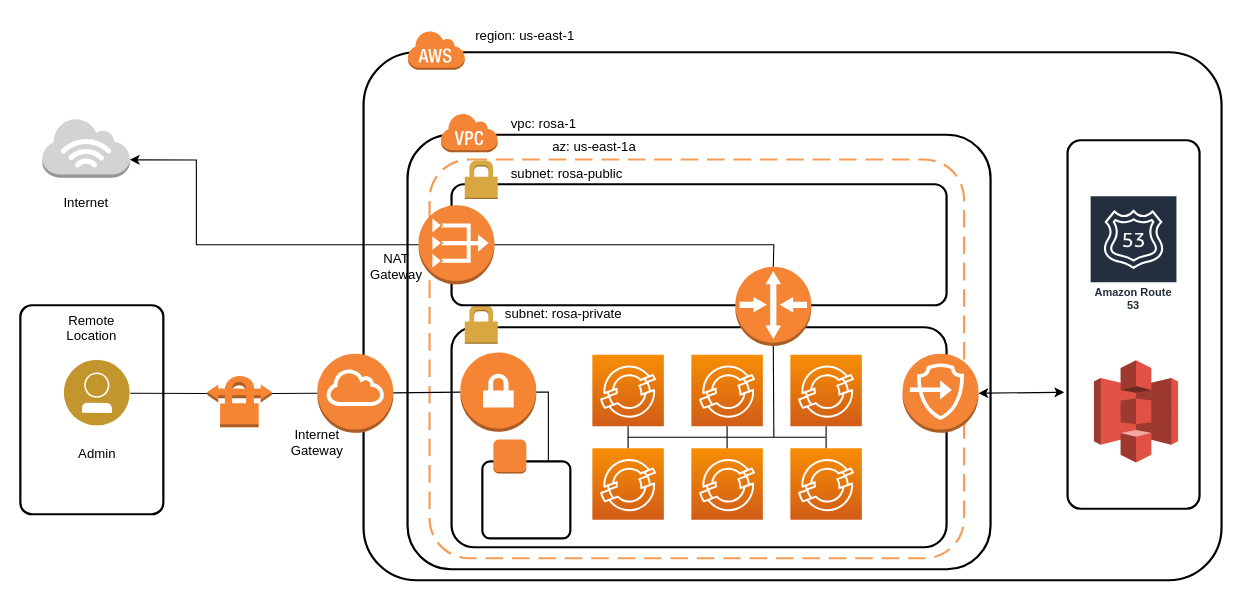
The diagram is 1241 pixels wide and 600 high, and some of its shapes have lost their labels. The shapes that lost their labels are listed below. From the top down, each one's box as (x1, y1, x2, y2) in pixels, then its label:
(1066, 139, 1200, 509): AWS Services
(481, 460, 571, 539): Mgmt Server
